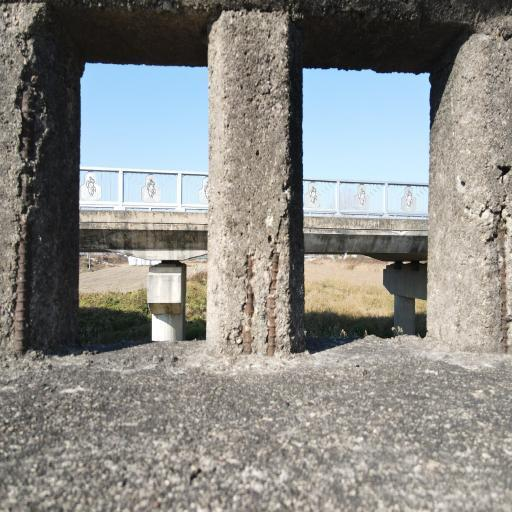exposed_rebar: (14, 213, 31, 356), (266, 247, 279, 356), (498, 220, 508, 350), (242, 254, 254, 354), (21, 91, 30, 158), (21, 174, 27, 193)
spalling: (12, 33, 47, 354)
